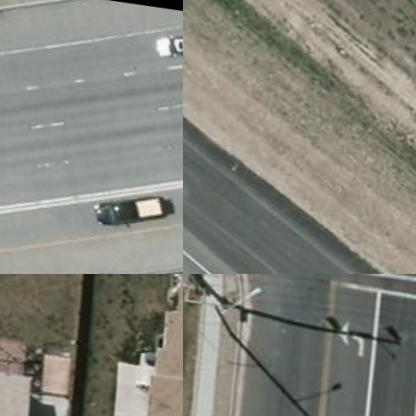car: (86, 184, 162, 239), (152, 26, 182, 68)
